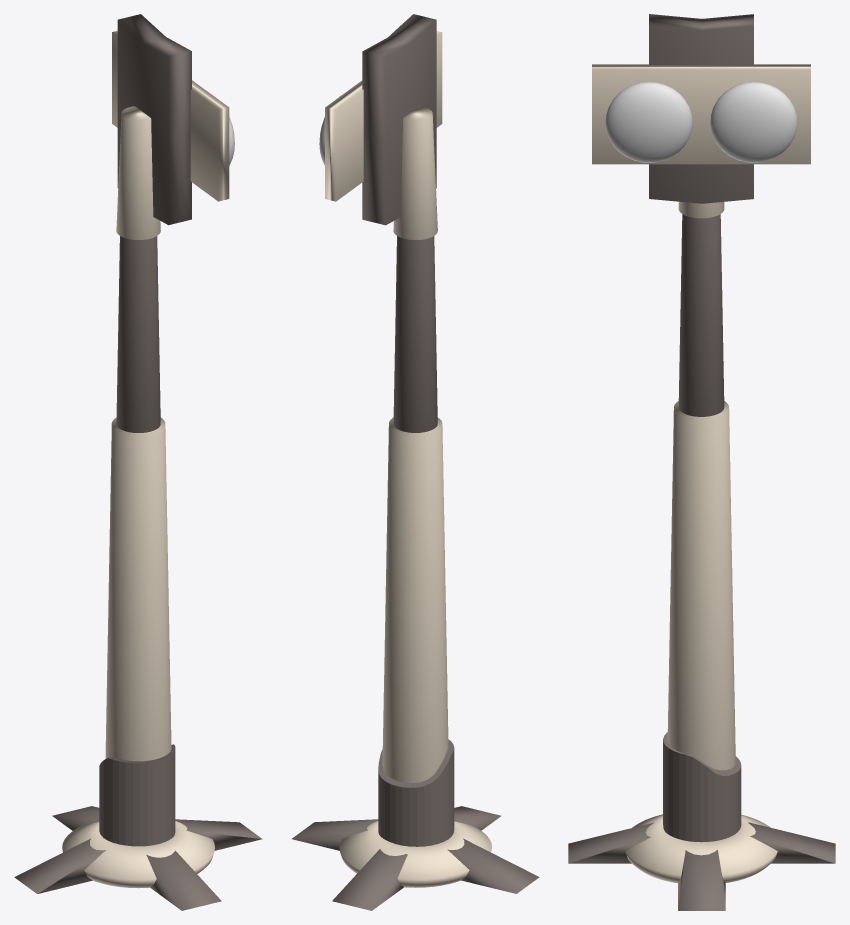
File: фонарь.fbx
3 views of the same model, side by side, from view 1: azimuth 30°, elevation 25°; view 2: azimuth 150°, elevation 25°; view 3: azimuth 270°, elevation 25° (orthographic). The views are drawn at different scales.
Parts seen in each view (by area): view 1: Cylinder, Cube, Cylinder.001, Cylinder.003, Torus, Cube.001, Cylinder.002, Cube.005, Cube.003, Cube.002, Cube.004; view 2: Cylinder, Cube, Cylinder.001, Cylinder.003, Torus, Cube.001, Cylinder.002, Cube.004, Cube.003, Cube.002, Cube.005; view 3: Cylinder, Cube.001, Cube, Cylinder.001, Cylinder.003, Sphere, Sphere.001, Torus, Cube.002, Cube.004, Cube.005, Cylinder.002.
Part boxes in pixels (<box>): Cylinder: <box>105,417,171,761</box>; Cube: <box>117,14,191,225</box>; Cylinder.001: <box>116,236,160,432</box>; Cylinder.003: <box>99,744,175,846</box>; Torus: <box>62,821,214,888</box>; Cube.001: <box>112,31,229,201</box>; Cylinder.002: <box>116,106,160,239</box>; Cube.005: <box>146,850,221,910</box>; Cube.003: <box>14,838,105,893</box>; Cube.002: <box>175,819,262,850</box>; Cube.004: <box>52,806,99,830</box>; Cylinder: <box>382,417,448,782</box>; Cube: <box>362,14,436,225</box>; Cylinder.001: <box>393,236,437,432</box>; Cylinder.003: <box>378,739,454,846</box>; Torus: <box>339,821,491,887</box>; Cube.001: <box>325,31,442,201</box>; Cylinder.002: <box>393,106,437,239</box>; Cube.004: <box>332,849,407,910</box>; Cube.003: <box>447,838,539,893</box>; Cube.002: <box>292,819,378,850</box>; Cube.005: <box>454,806,501,830</box>; Cylinder: <box>667,401,735,770</box>; Cube.001: <box>592,64,810,164</box>; Cube: <box>649,14,753,203</box>; Cylinder.001: <box>678,214,724,416</box>; Cylinder.003: <box>663,732,741,842</box>; Sphere: <box>605,82,692,162</box>; Sphere.001: <box>710,82,797,162</box>; Torus: <box>625,814,777,883</box>; Cube.002: <box>678,849,725,910</box>; Cube.004: <box>748,822,835,863</box>; Cube.005: <box>568,822,654,863</box>; Cylinder.002: <box>678,201,724,218</box>.
Size of the model in its own units: 612 by 2132 by 612.
